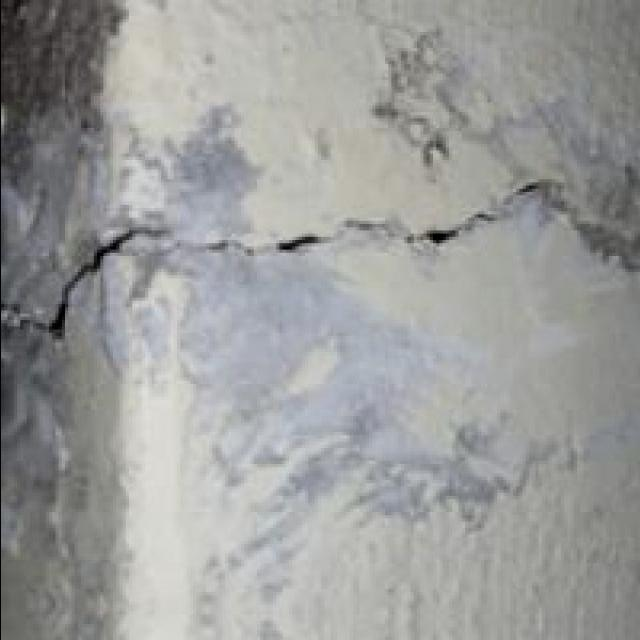SurfaceCrack: (24, 150, 570, 372)
